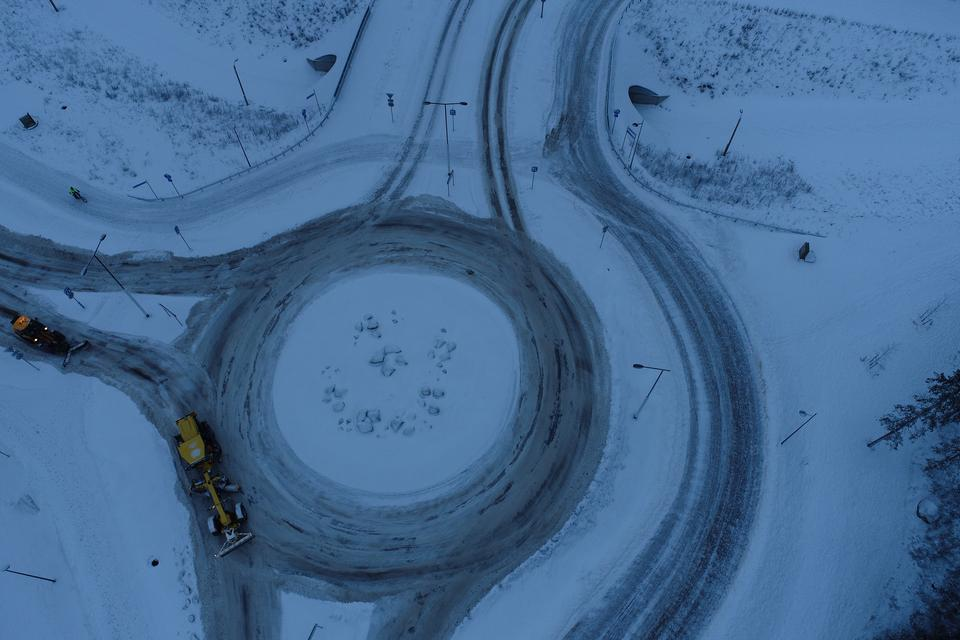intersection: (363, 108, 625, 194)
roundabout: (148, 200, 790, 629)
